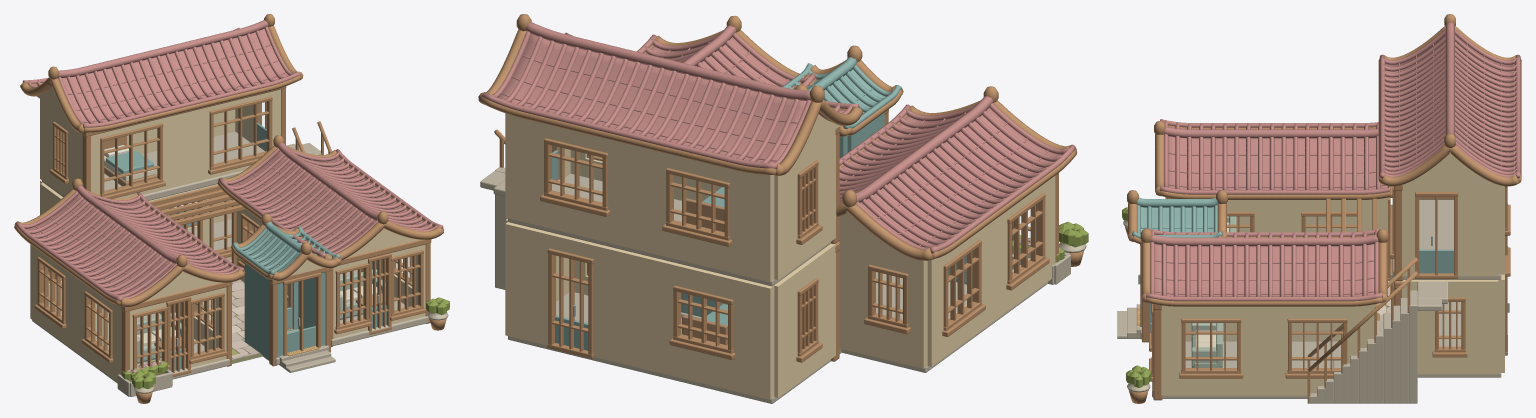
The picture shows the model from 3 angles, left to right: view 1: azimuth 30°, elevation 25°; view 2: azimuth 150°, elevation 25°; view 3: azimuth 270°, elevation 25°; orthographic projection. The views are drawn at different scales.
Visible parts, largest first — view 1: SM_26_02_曲面屋顶, SM_26_01_建筑墙体, SM_26_04_门窗楼梯, SM_26_03_木构回廊, SM_26_06_景观设施, SM_26_05_景观植物, SM_26_06_院内及专用铺地; view 2: SM_26_01_建筑墙体, SM_26_02_曲面屋顶, SM_26_04_门窗楼梯, SM_26_06_景观设施, SM_26_05_景观植物, SM_26_03_木构回廊; view 3: SM_26_02_曲面屋顶, SM_26_01_建筑墙体, SM_26_04_门窗楼梯, SM_26_03_木构回廊, SM_26_06_景观设施, SM_26_05_景观植物.
Part boxes in pixels (x1,y1,x2,y2): SM_26_02_曲面屋顶: (14, 14, 443, 306); SM_26_01_建筑墙体: (30, 87, 428, 383); SM_26_04_门窗楼梯: (34, 96, 426, 376); SM_26_03_木构回廊: (82, 86, 431, 380); SM_26_06_景观设施: (104, 136, 385, 363); SM_26_05_景观植物: (117, 297, 449, 403); SM_26_06_院内及专用铺地: (197, 279, 319, 363); SM_26_01_建筑墙体: (505, 113, 1055, 403); SM_26_02_曲面屋顶: (478, 14, 1077, 260); SM_26_04_门窗楼梯: (480, 129, 1049, 362); SM_26_06_景观设施: (682, 187, 966, 345); SM_26_05_景观植物: (1012, 221, 1088, 284); SM_26_03_木构回廊: (831, 109, 1058, 361); SM_26_02_曲面屋顶: (1127, 14, 1521, 306); SM_26_01_建筑墙体: (1140, 151, 1504, 398); SM_26_04_门窗楼梯: (1117, 186, 1510, 403); SM_26_03_木构回廊: (1142, 185, 1403, 400); SM_26_06_景观设施: (1191, 196, 1453, 367); SM_26_05_景观植物: (1122, 207, 1151, 403).
Bounding box in the file's own units: 10.87 × 7.14 × 10.46.
